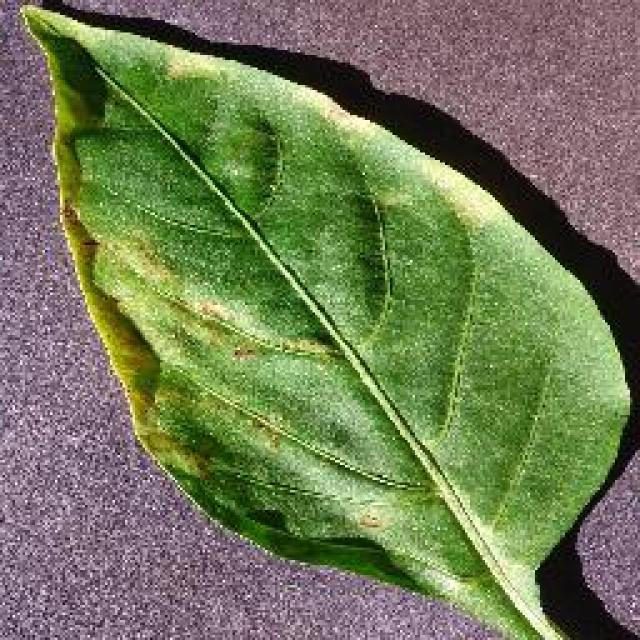Chilli_Bacterial_Spot: (15, 0, 637, 638), (167, 277, 340, 368), (419, 158, 515, 238), (293, 81, 372, 152), (143, 35, 235, 83), (353, 508, 385, 532)
